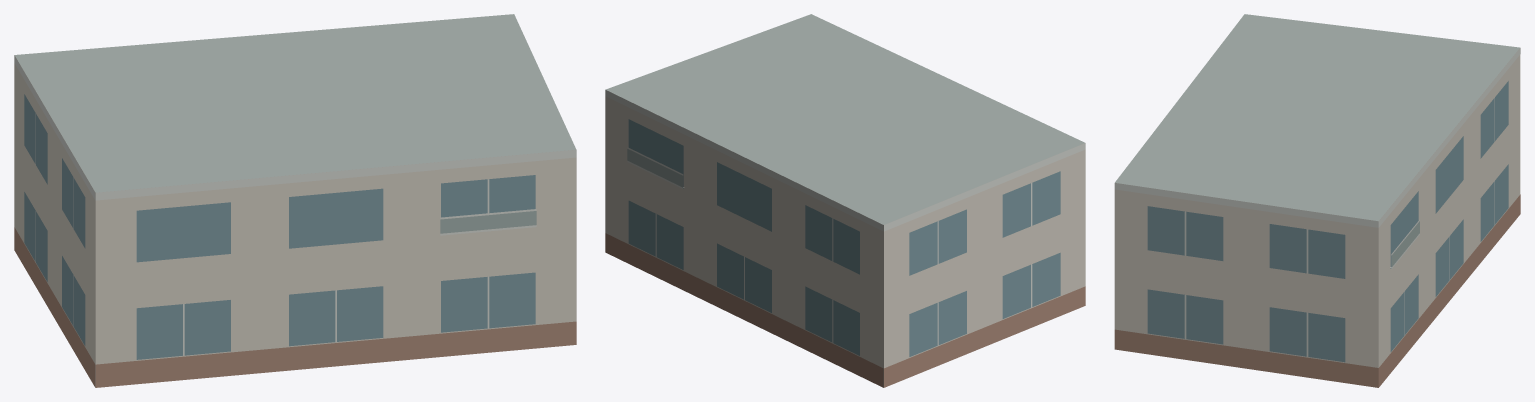
Rendered from survey-upis-32656220.glb.
The picture shows the model from 3 angles, left to right: view 1: azimuth 30°, elevation 25°; view 2: azimuth 150°, elevation 25°; view 3: azimuth 270°, elevation 25°; orthographic projection. The views are drawn at different scales.
Visible parts, largest first — view 1: survey-upis-32656220.tmp; view 2: survey-upis-32656220.tmp; view 3: survey-upis-32656220.tmp.
Part boxes in pixels (<box>): survey-upis-32656220.tmp: <box>14,14,576,387</box>; survey-upis-32656220.tmp: <box>605,14,1085,387</box>; survey-upis-32656220.tmp: <box>1114,14,1520,387</box>.
Bounding box in the file's own units: 16.28 × 6.1 × 13.47.
